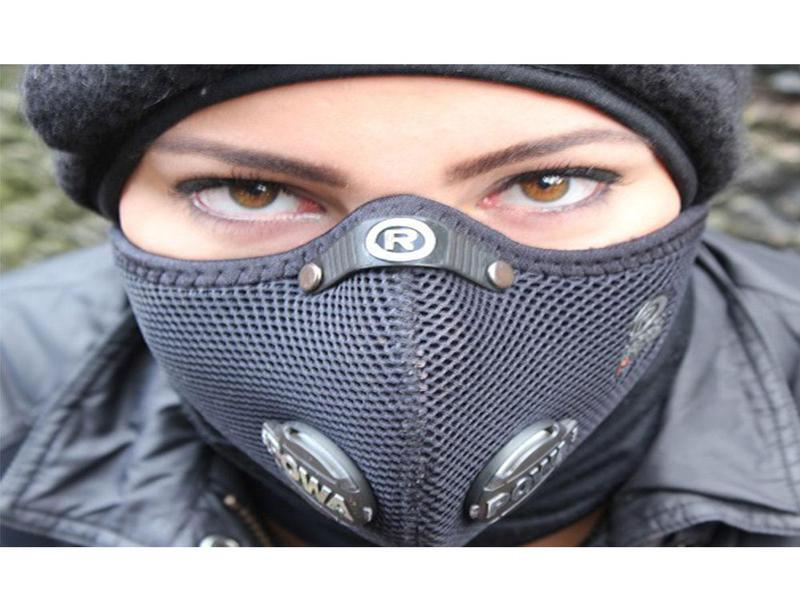with_mask: (116, 78, 687, 542)
